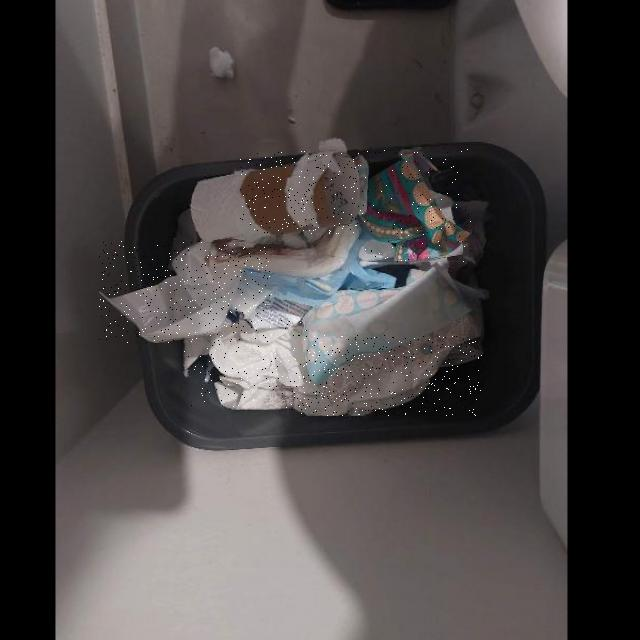paper: (100, 241, 272, 342), (295, 335, 483, 416), (184, 319, 307, 409), (241, 151, 362, 234)
wrapper: (360, 148, 471, 261)
